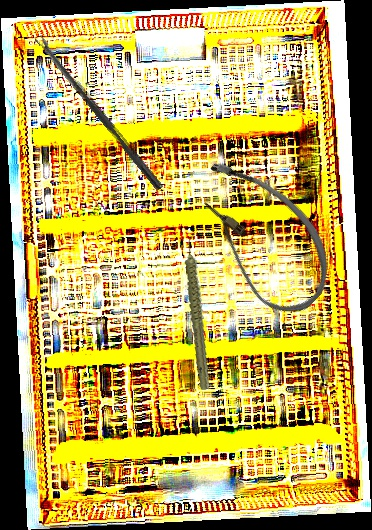Cannula: (167, 144, 354, 329)
Handpiece: (165, 231, 233, 392)
Surgical Spoon: (34, 33, 165, 192)
